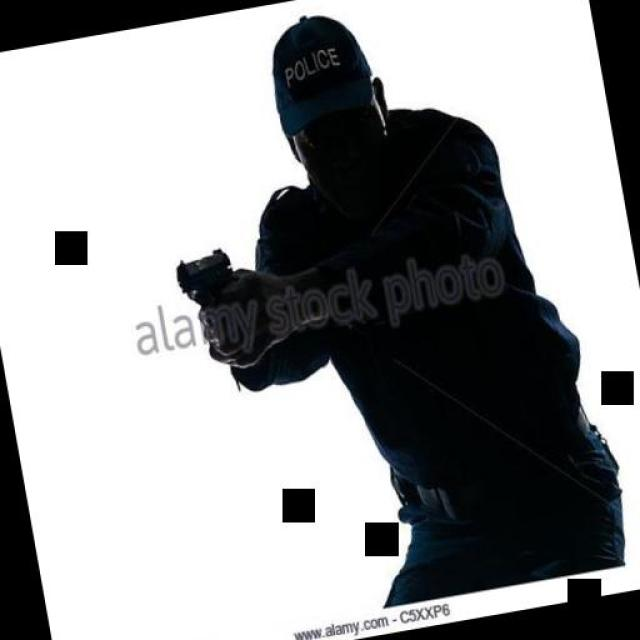gun: (165, 238, 244, 336)
